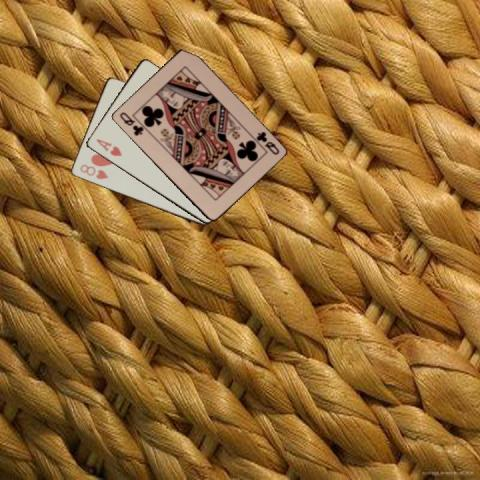8h: (77, 161, 109, 181)
Ah: (92, 135, 123, 158)
Qc: (116, 109, 144, 138), (252, 129, 280, 156)
